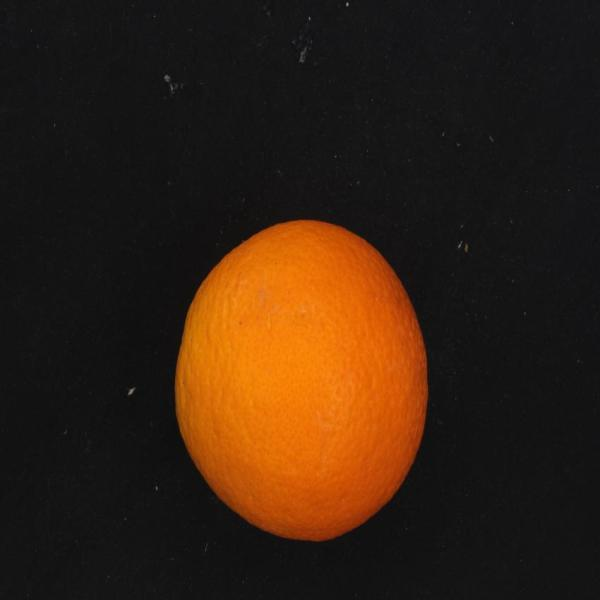Sana: (168, 213, 430, 549)
